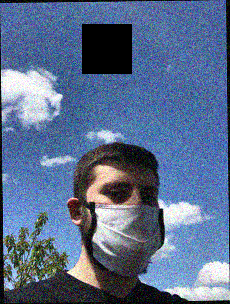with_mask: (87, 173, 166, 278)
